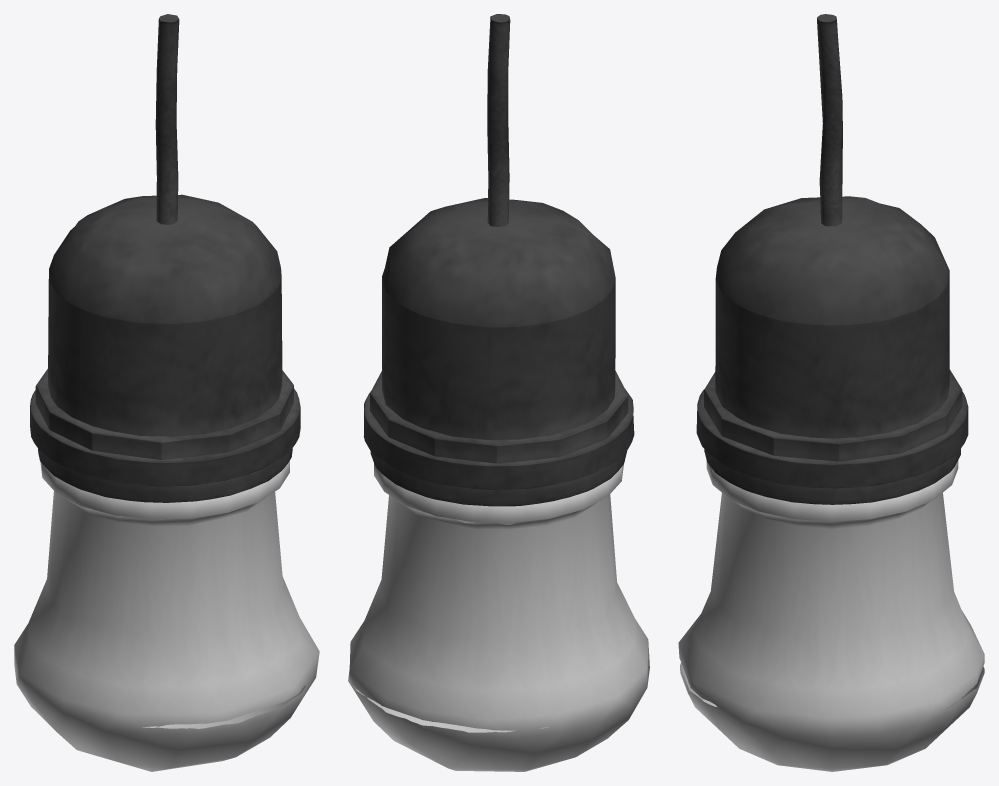
The model's file is SM_hanginglight_01d.fbx.
3 views of the same model, side by side, from view 1: azimuth 30°, elevation 25°; view 2: azimuth 150°, elevation 25°; view 3: azimuth 270°, elevation 25° (orthographic).
Visible parts, largest first — view 1: SM_hanginglight_01d_LOD0; view 2: SM_hanginglight_01d_LOD0; view 3: SM_hanginglight_01d_LOD0.
Part boxes in pixels (bbox=[...]): SM_hanginglight_01d_LOD0: bbox=[14, 14, 319, 771]; SM_hanginglight_01d_LOD0: bbox=[348, 14, 649, 771]; SM_hanginglight_01d_LOD0: bbox=[678, 14, 984, 771].
Size of the model in its own units: 11.08 by 11.11 by 29.29.
